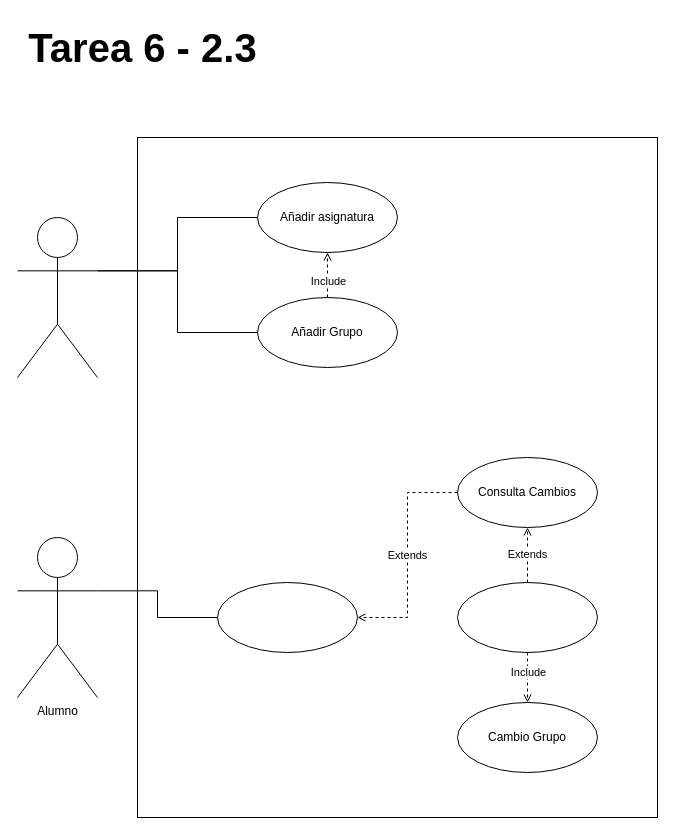
This 675x835 diagram has some shape labels left out. The centre of each missing label's shape, as x and y in pixels:
"Profesor" goes at pixel 57 297.
"Publicitar cambio" goes at pixel 527 617.
"Verificar Alumno Matrículado" goes at pixel 287 617.
